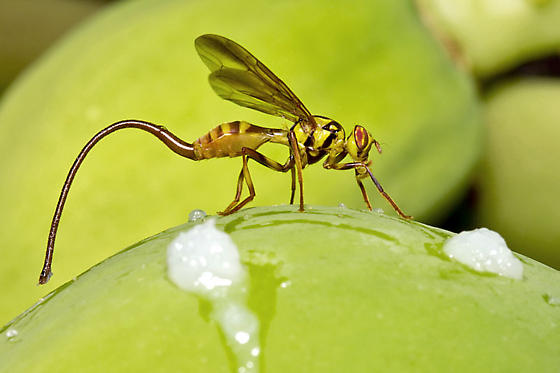Fruit fly: (28, 54, 407, 286)
